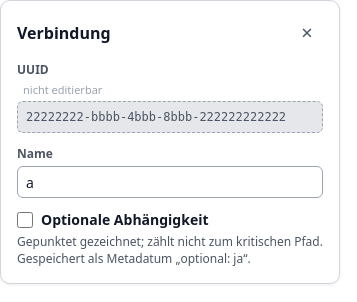
Sidebar › edge variant › keeps trailing spaces when the owner echoes the name back
Type " b " into the field labelled "Name" at (170, 182), box x1=17 y1=166 x2=323 y2=198
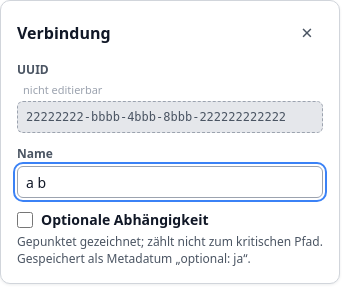
Expected: the field labelled "Name" holds "a b ", x1=17 y1=166 x2=323 y2=198
